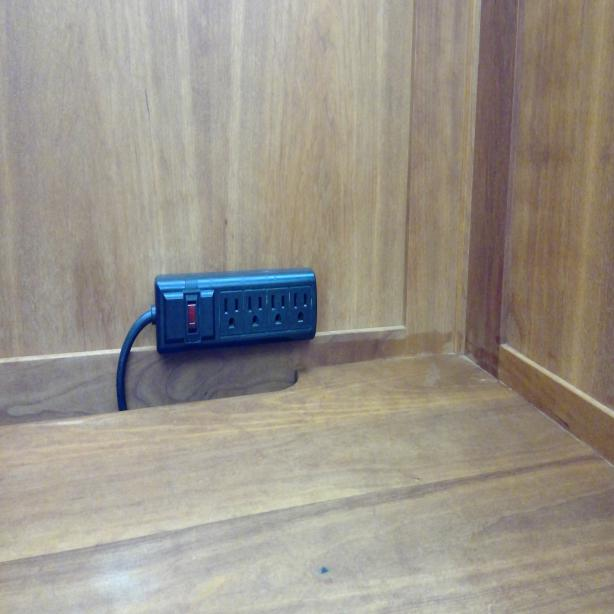typeb: (218, 292, 244, 338), (267, 289, 291, 333), (244, 289, 267, 333), (292, 288, 312, 328)
